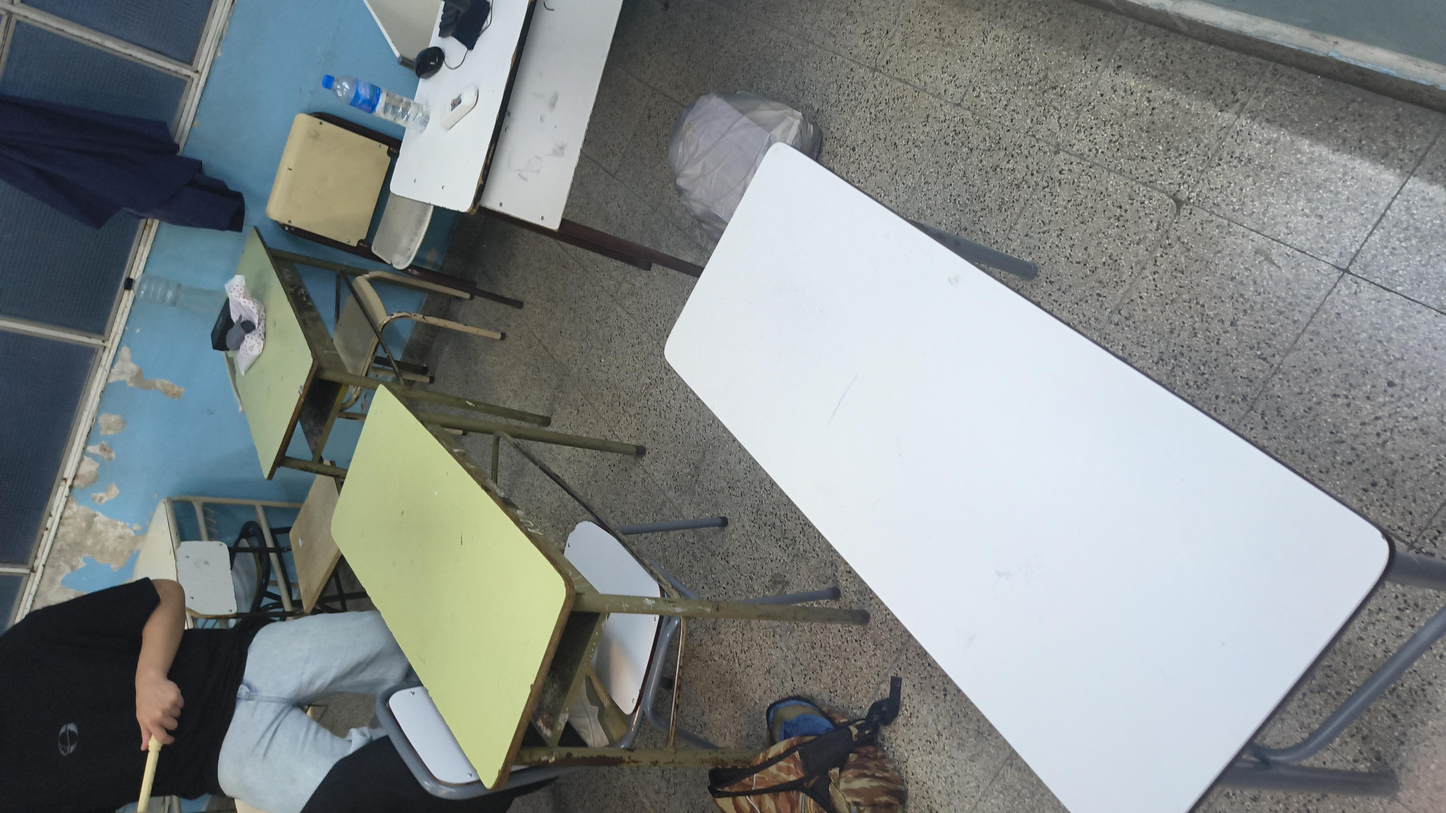Garbage: (1010, 359, 1318, 474)
